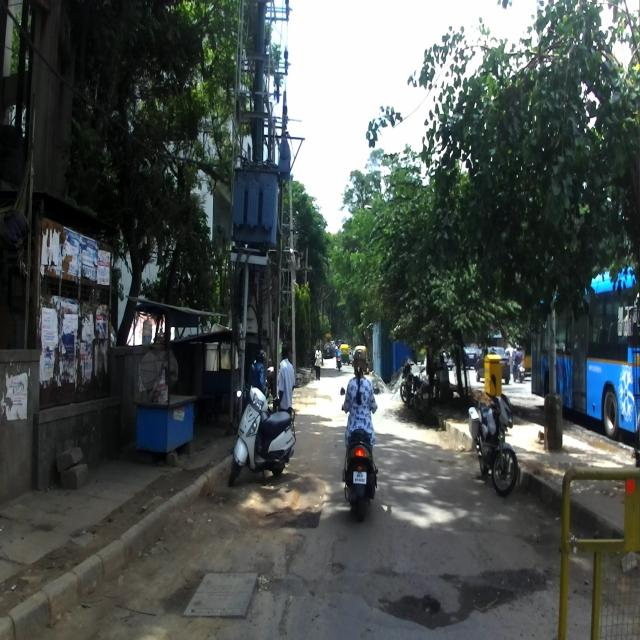bus: (527, 260, 639, 448)
motorcycle: (468, 374, 518, 497)
scooter: (228, 378, 296, 489), (339, 387, 381, 524)
